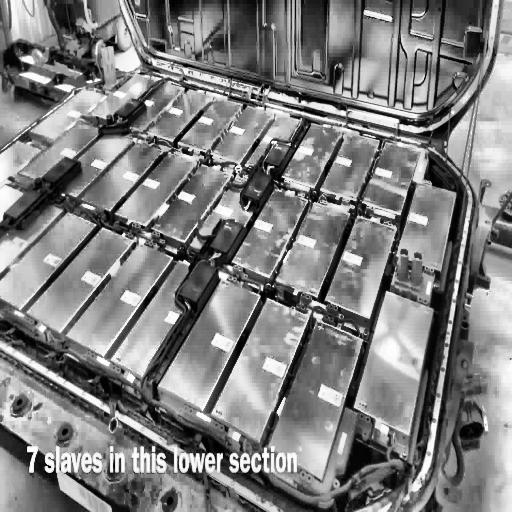battery_module: (268, 320, 363, 478), (211, 299, 309, 441), (158, 278, 260, 411), (353, 289, 434, 436), (326, 217, 396, 318), (275, 203, 352, 294), (232, 188, 306, 278), (395, 183, 457, 270), (363, 144, 419, 213), (282, 123, 342, 187), (321, 134, 379, 200)
busbar: (293, 401, 376, 498), (176, 402, 228, 444), (290, 289, 346, 328)
connector: (393, 253, 436, 307)
high_volt_cable: (261, 433, 410, 512), (136, 249, 218, 390)
low_volt_cable: (140, 393, 263, 492)
